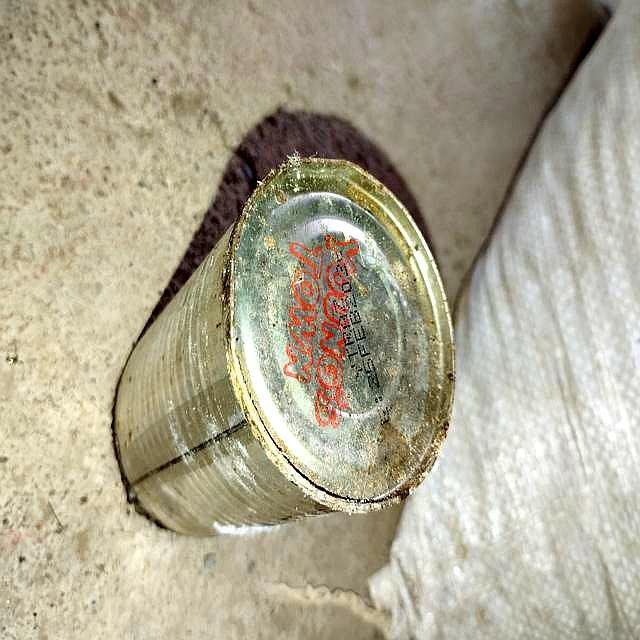Non-biodegradable: (110, 148, 459, 538)
